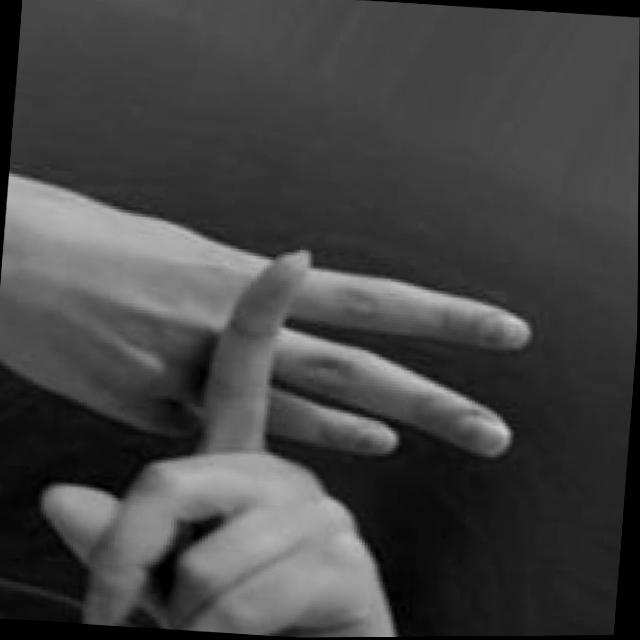E: (11, 171, 548, 640)
